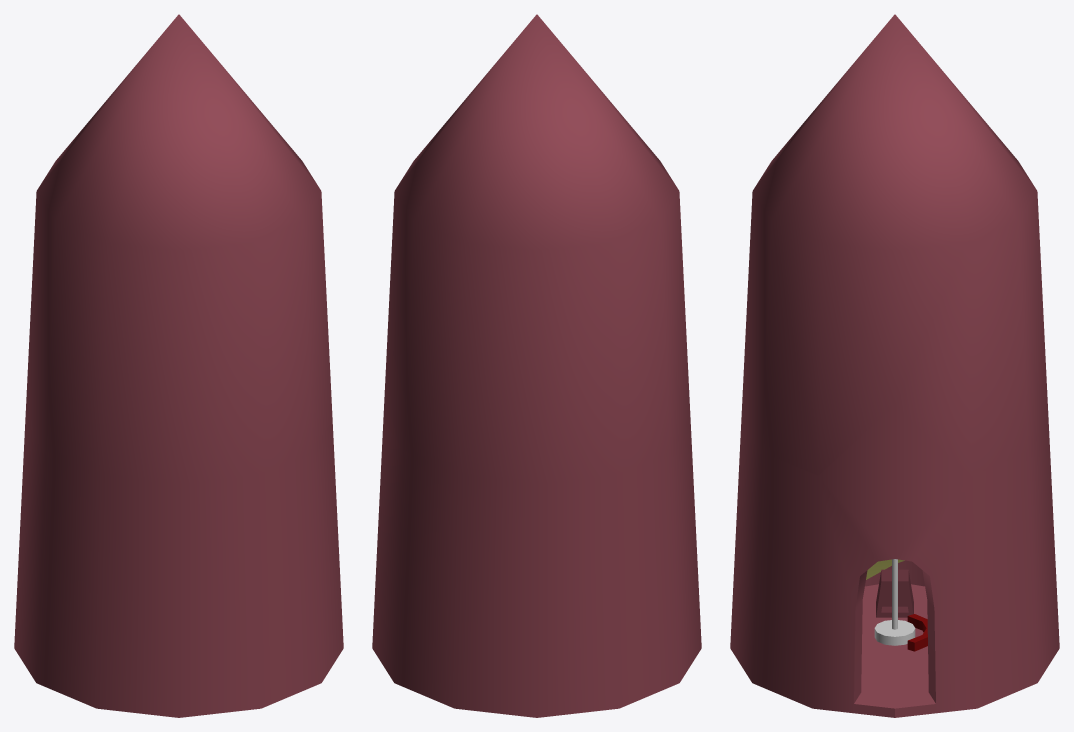
Rendered from taller de greda.fbx.
3 renders of one model, left to right at view 1: azimuth 30°, elevation 25°; view 2: azimuth 150°, elevation 25°; view 3: azimuth 270°, elevation 25°, orthographic.
Parts seen in each view (by area): view 1: pCylinder3; view 2: pCylinder3; view 3: pCylinder3, pCube1, pCylinder5, pCylinder6.
Boxes of the visible parts, x1,y1,x2,y2 form: pCylinder3: (14,14,343,717); pCylinder3: (372,14,701,717); pCylinder3: (730,14,1059,717); pCube1: (876,569,913,617); pCylinder5: (874,620,915,645); pCylinder6: (907,614,927,651).
Bounding box in the file's own units: 16.1 × 16.1 × 34.2.
